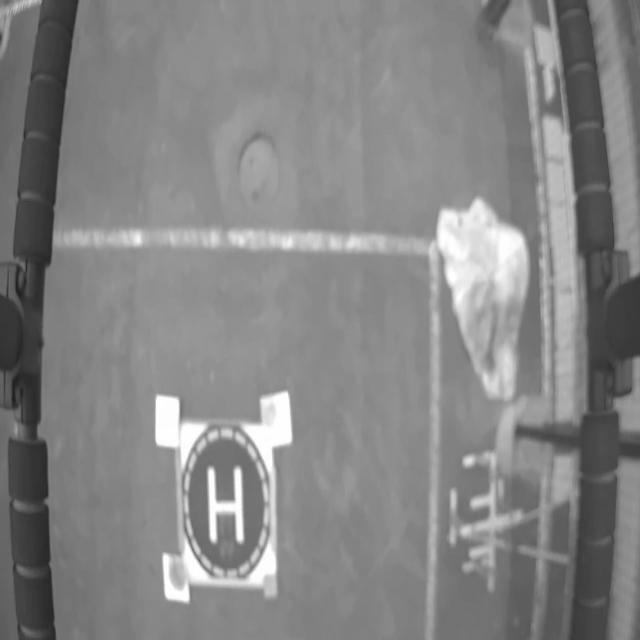Helipad: (207, 466, 245, 547)
